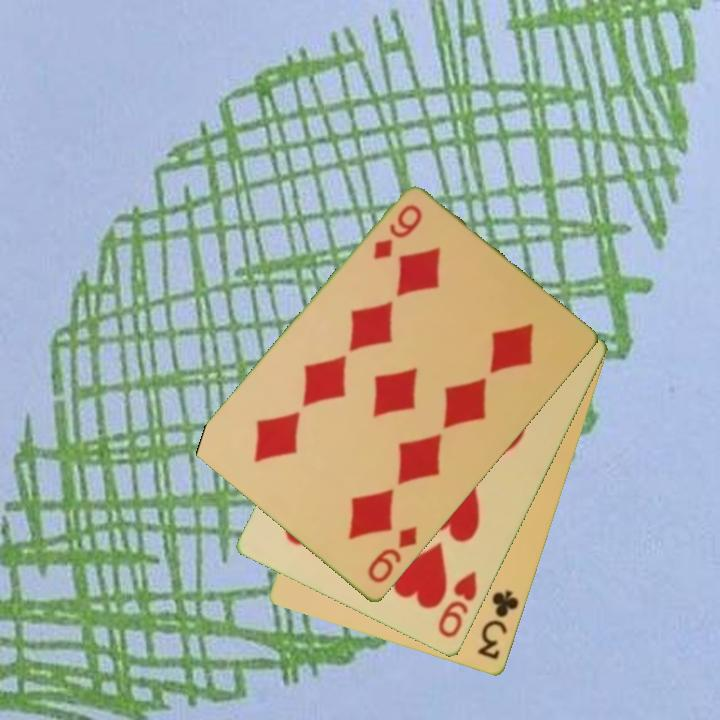3c: (474, 587, 522, 663)
9d: (364, 523, 421, 587), (369, 201, 425, 264)
9h: (434, 568, 481, 641)
